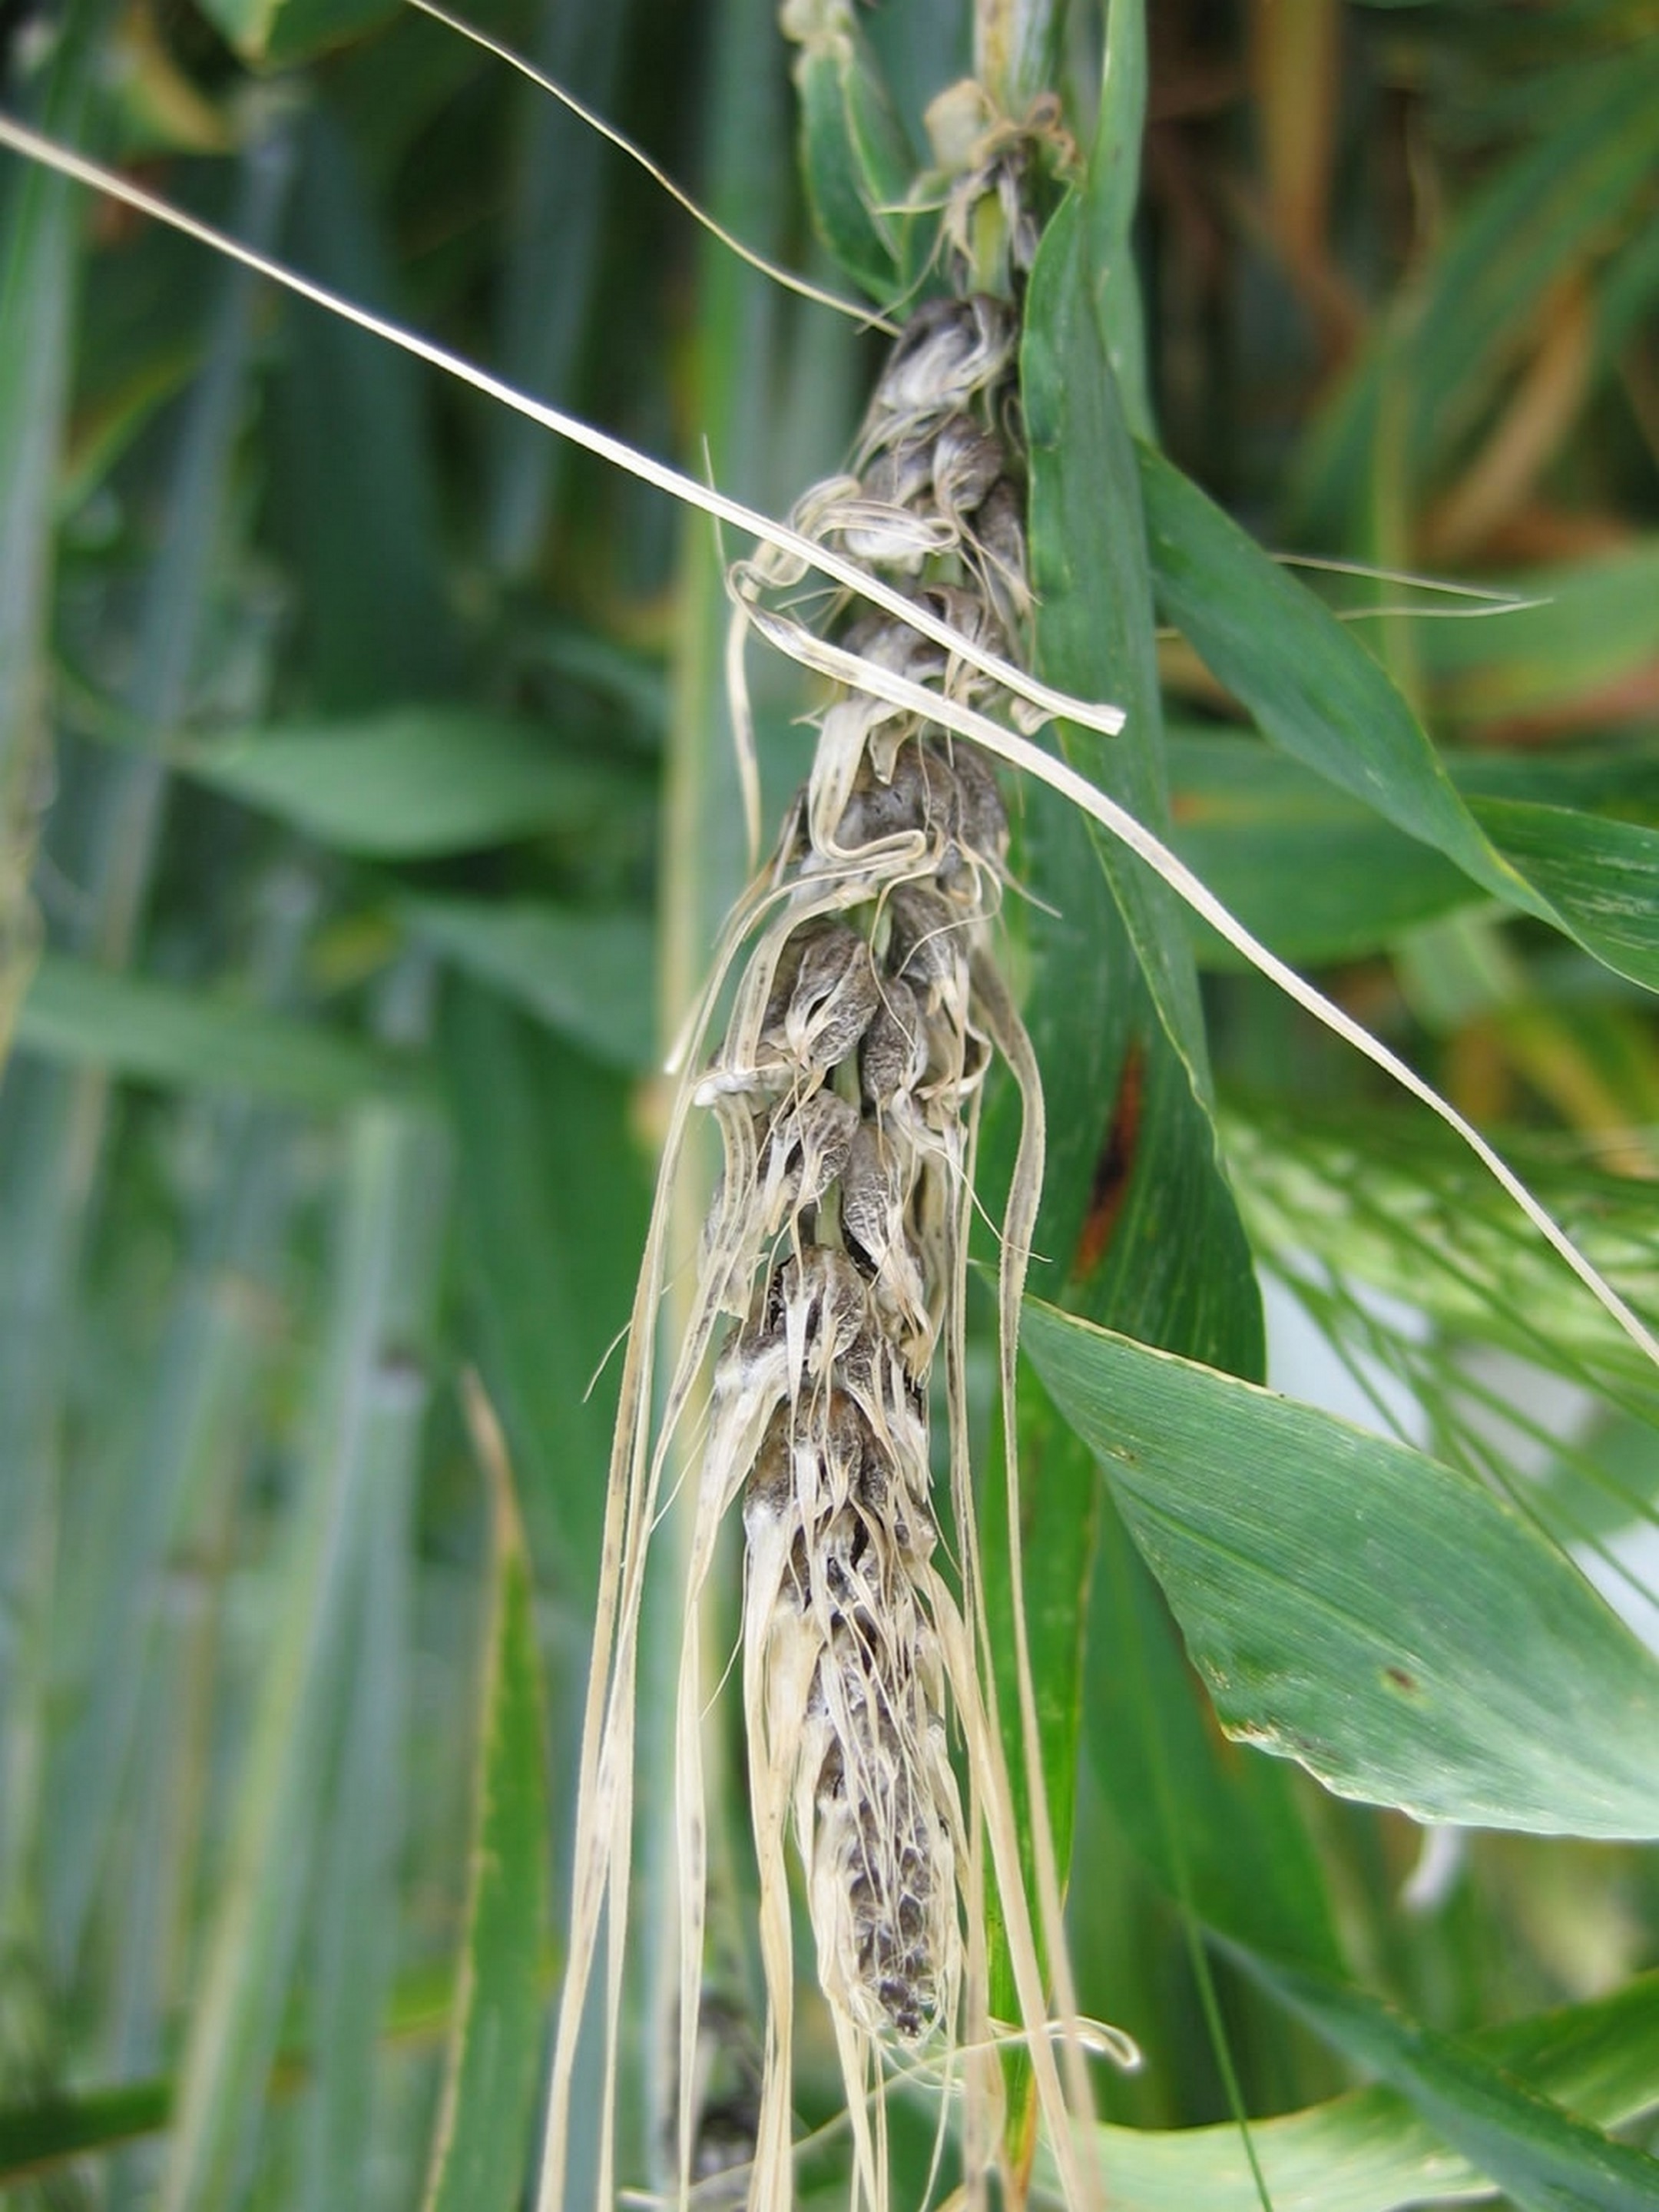Wheat Loose Smut: (643, 327, 1143, 2033)
